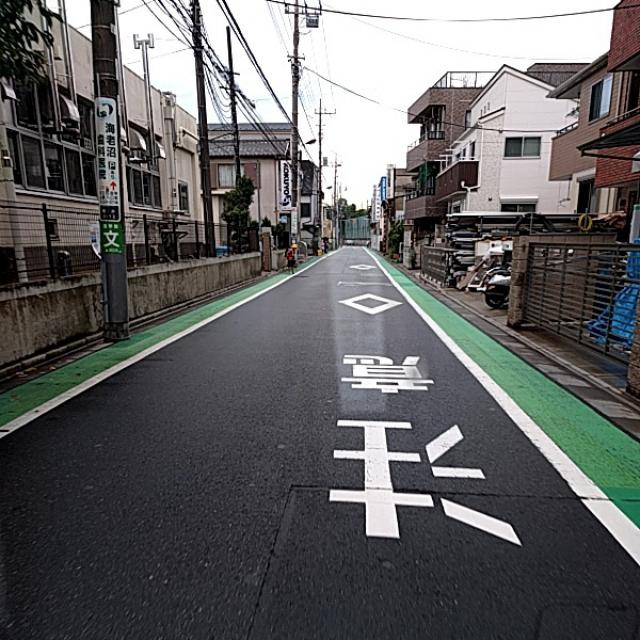pothole: (230, 503, 301, 591)
